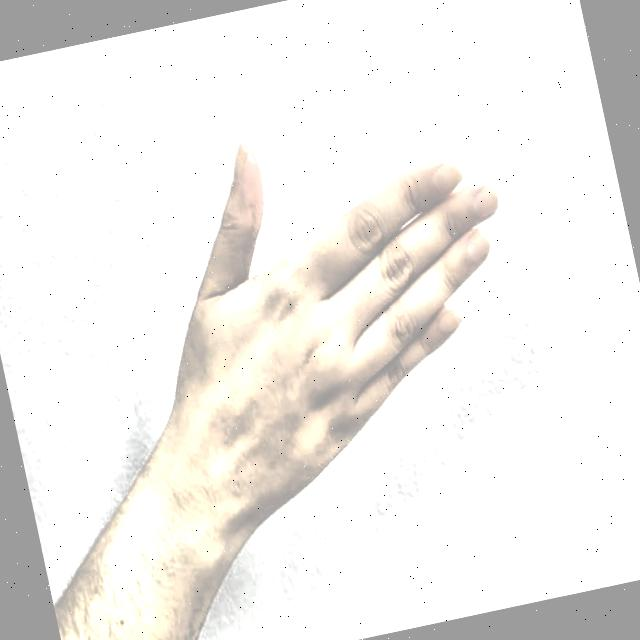Aa: (111, 68, 577, 560)
